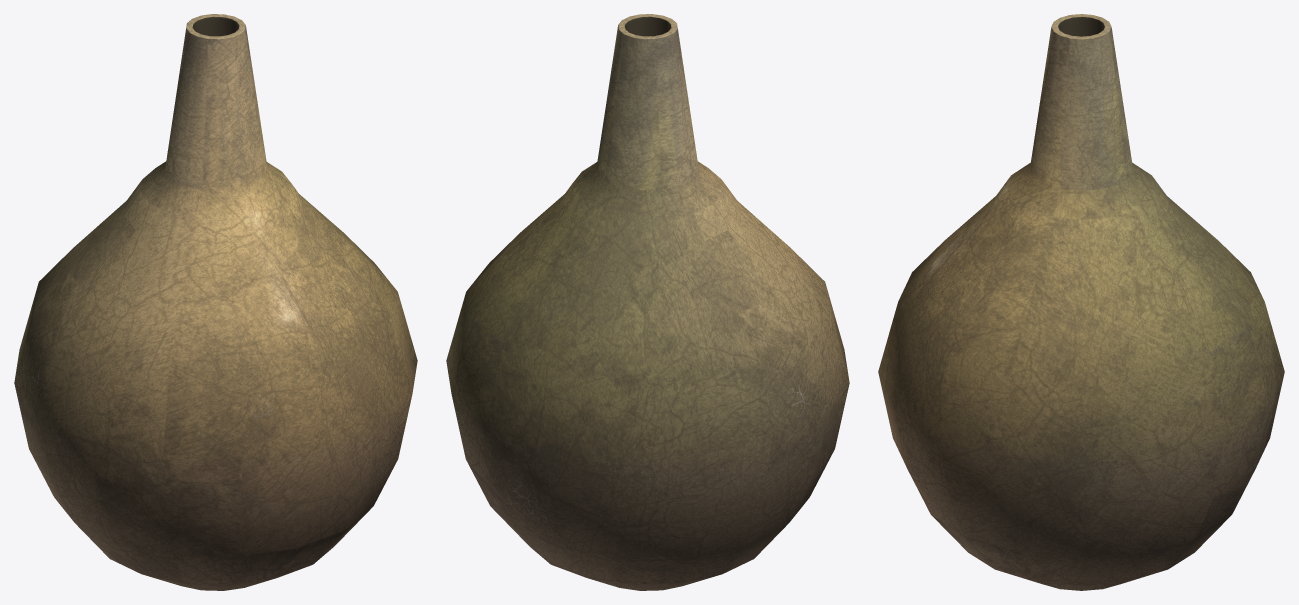
Rendered from Water Jug_01.fbx.
The picture shows the model from 3 angles, left to right: view 1: azimuth 30°, elevation 25°; view 2: azimuth 150°, elevation 25°; view 3: azimuth 270°, elevation 25°; orthographic projection.
Visible parts, largest first — view 1: Water Jug_01; view 2: Water Jug_01; view 3: Water Jug_01.
Boxes of the visible parts, left/top/right/bottom form: Water Jug_01: left=14, top=14, right=417, bottom=590; Water Jug_01: left=446, top=14, right=849, bottom=590; Water Jug_01: left=878, top=14, right=1284, bottom=590.
Size of the model in its own units: 18.87 by 28.03 by 18.87.
1 material, 1 textured.
